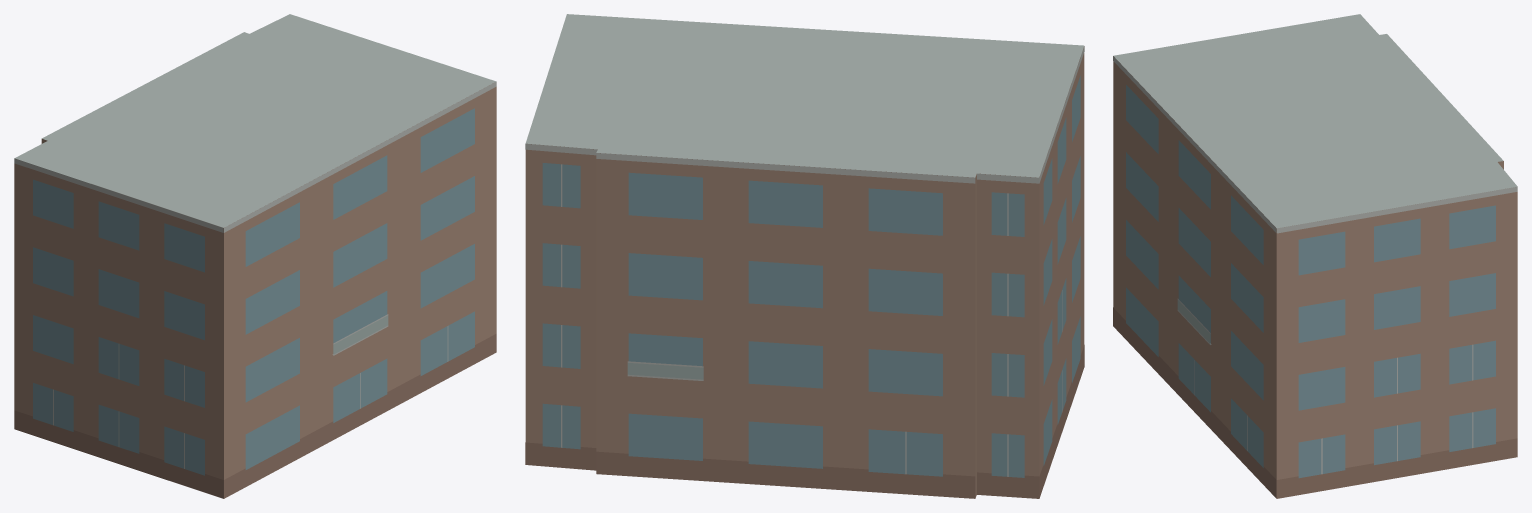
The model's file is survey-upis-32704726.glb.
3 renders of one model, left to right at view 1: azimuth 30°, elevation 25°; view 2: azimuth 150°, elevation 25°; view 3: azimuth 270°, elevation 25°, orthographic. The views are drawn at different scales.
Visible parts, largest first — view 1: survey-upis-32704726.tmp; view 2: survey-upis-32704726.tmp; view 3: survey-upis-32704726.tmp.
Boxes of the visible parts, x1=… form: survey-upis-32704726.tmp: x1=14, y1=14, x2=496, y2=498; survey-upis-32704726.tmp: x1=525, y1=14, x2=1084, y2=498; survey-upis-32704726.tmp: x1=1113, y1=14, x2=1517, y2=498.
Bounding box in the file's own units: 22.12 × 13 × 17.64.
